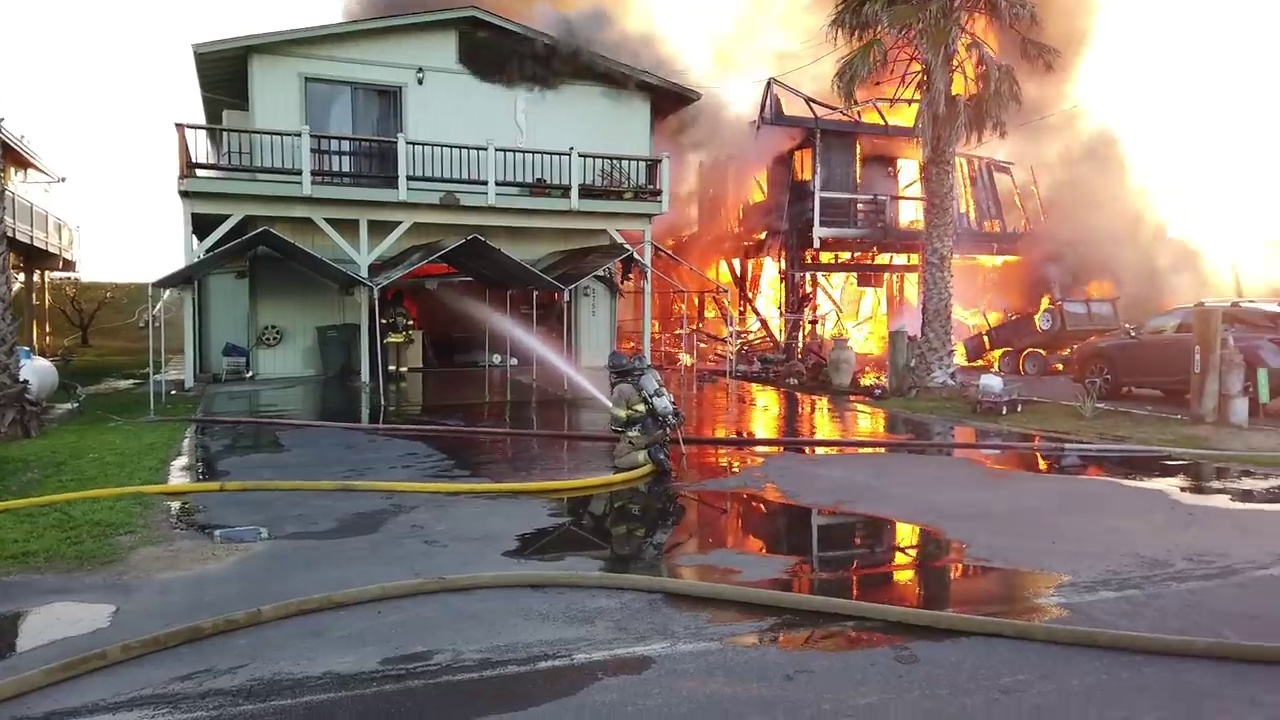fire: (703, 154, 1071, 386), (632, 1, 835, 88), (616, 284, 698, 373), (1184, 234, 1279, 304), (889, 518, 962, 589), (984, 341, 1050, 381), (897, 153, 927, 224), (388, 256, 462, 279), (387, 289, 421, 327), (1032, 298, 1064, 332), (857, 364, 889, 386), (1082, 279, 1112, 297), (550, 293, 563, 310)
smoke: (992, 1, 1196, 293)
